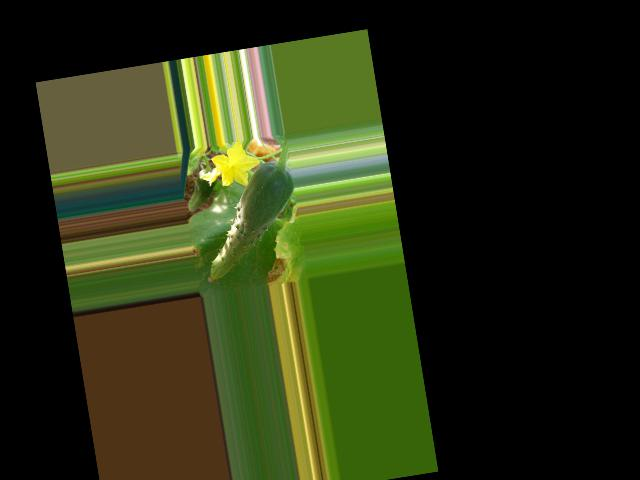cucumber: (190, 158, 307, 283)
